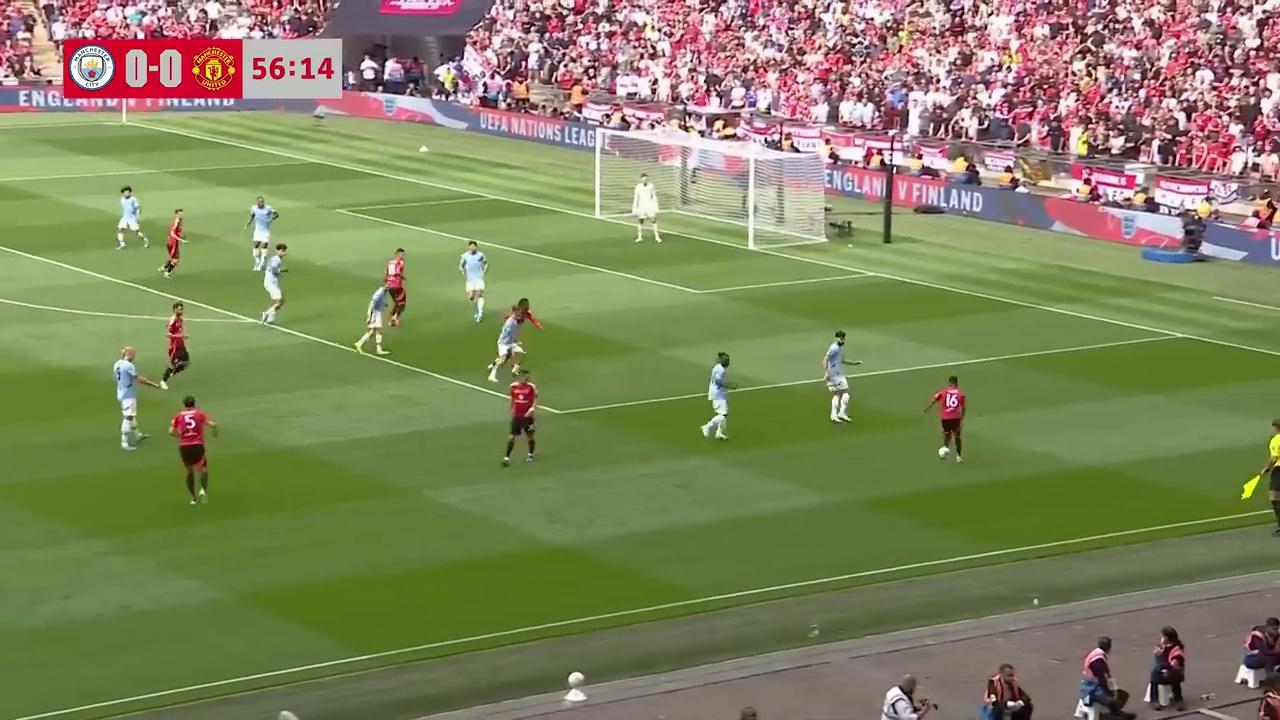ball: (936, 444, 950, 459)
player: (168, 396, 218, 506), (922, 375, 966, 462), (500, 369, 539, 466), (113, 346, 147, 450), (701, 352, 734, 442), (822, 331, 853, 423), (487, 306, 524, 382), (160, 301, 190, 387), (508, 297, 543, 370), (458, 241, 488, 322), (259, 243, 288, 325), (355, 281, 388, 353), (245, 196, 277, 266), (115, 185, 148, 250), (632, 174, 662, 243), (160, 208, 186, 279), (384, 247, 406, 326)
referee: (1255, 417, 1280, 538)
